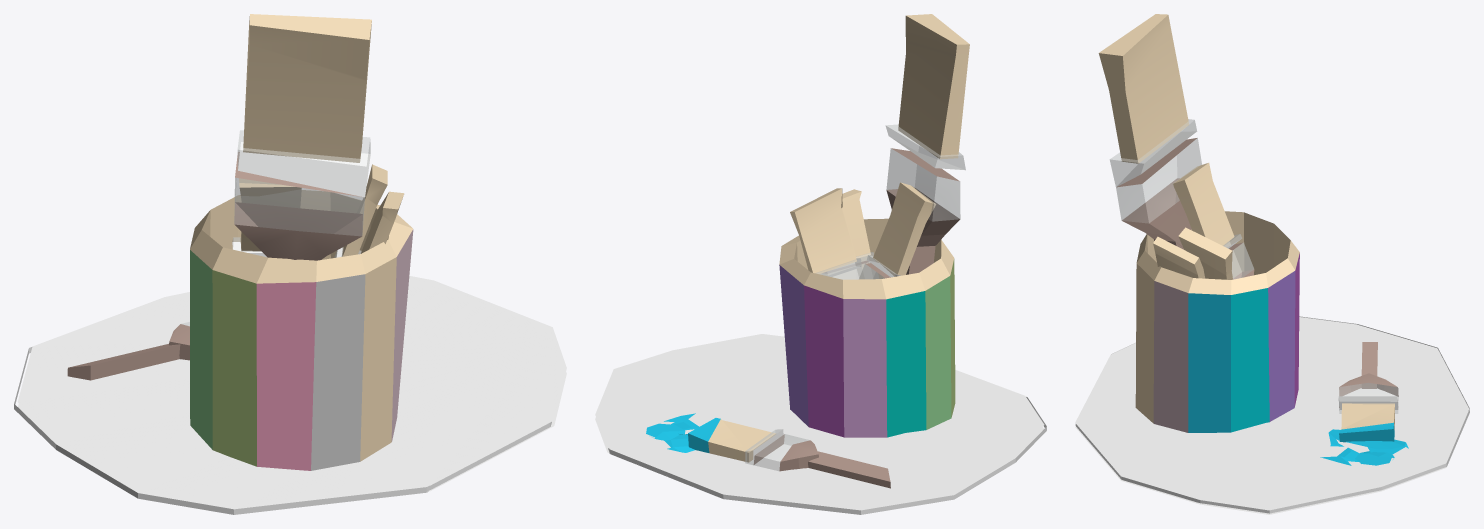
The model's file is paintbrush.fbx.
3 renders of one model, left to right at view 1: azimuth 30°, elevation 25°; view 2: azimuth 150°, elevation 25°; view 3: azimuth 270°, elevation 25°, orthographic. The views are drawn at different scales.
Visible parts, largest first — view 1: paintbrushes; view 2: paintbrushes; view 3: paintbrushes.
Part boxes in pixels (x1,y1,x2,y2): paintbrushes: [14, 14, 566, 514]; paintbrushes: [595, 14, 1046, 514]; paintbrushes: [1075, 14, 1469, 514].
Bounding box in the file's own units: 4.45 × 3.95 × 3.85.
